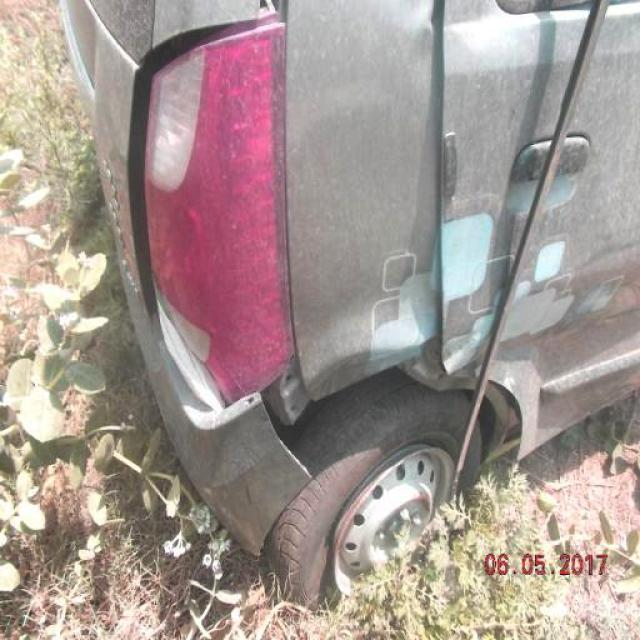car damage: (263, 332, 535, 481), (441, 266, 639, 468)
